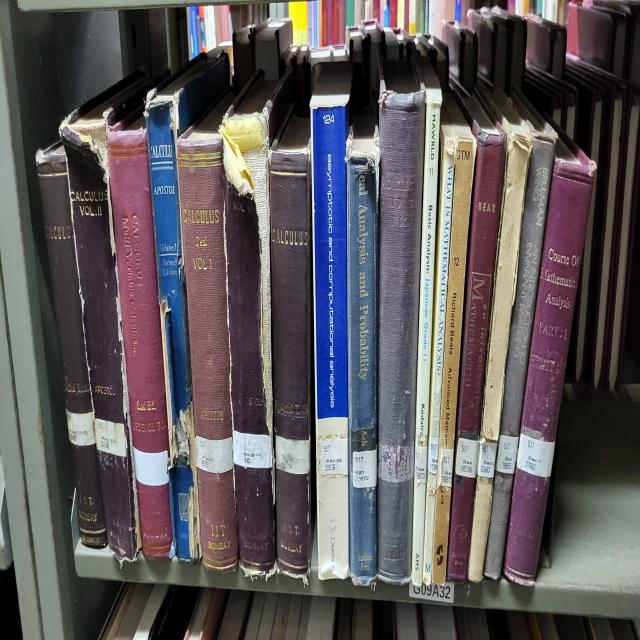Book: (60, 70, 148, 563), (145, 54, 230, 560), (504, 135, 595, 584), (221, 70, 292, 576), (484, 92, 556, 579), (468, 84, 531, 582), (178, 92, 239, 571), (108, 106, 172, 557), (36, 141, 106, 547), (448, 95, 506, 582), (378, 57, 426, 584), (310, 62, 352, 579), (432, 95, 476, 584), (270, 116, 311, 579), (346, 106, 380, 587), (411, 60, 442, 587), (422, 114, 456, 584)
Label: (516, 433, 555, 479), (232, 430, 272, 468), (195, 436, 234, 473), (134, 446, 169, 487), (275, 436, 310, 473), (95, 417, 126, 457), (320, 438, 348, 476), (66, 411, 96, 446), (455, 438, 479, 479), (352, 449, 376, 487), (496, 436, 519, 473), (478, 441, 498, 479), (439, 449, 454, 490), (415, 446, 428, 484), (428, 438, 439, 473)
